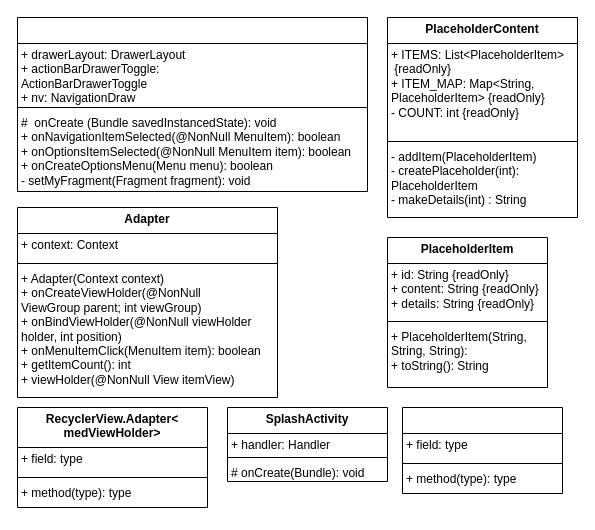
This 595x530 diagram has some shape labels left out. The box of each missing label's shape, as (x1, y1, x2, y2) in pixels:
AppCompatActivity: (402, 406, 562, 494)
MainActivity: (16, 16, 368, 192)
